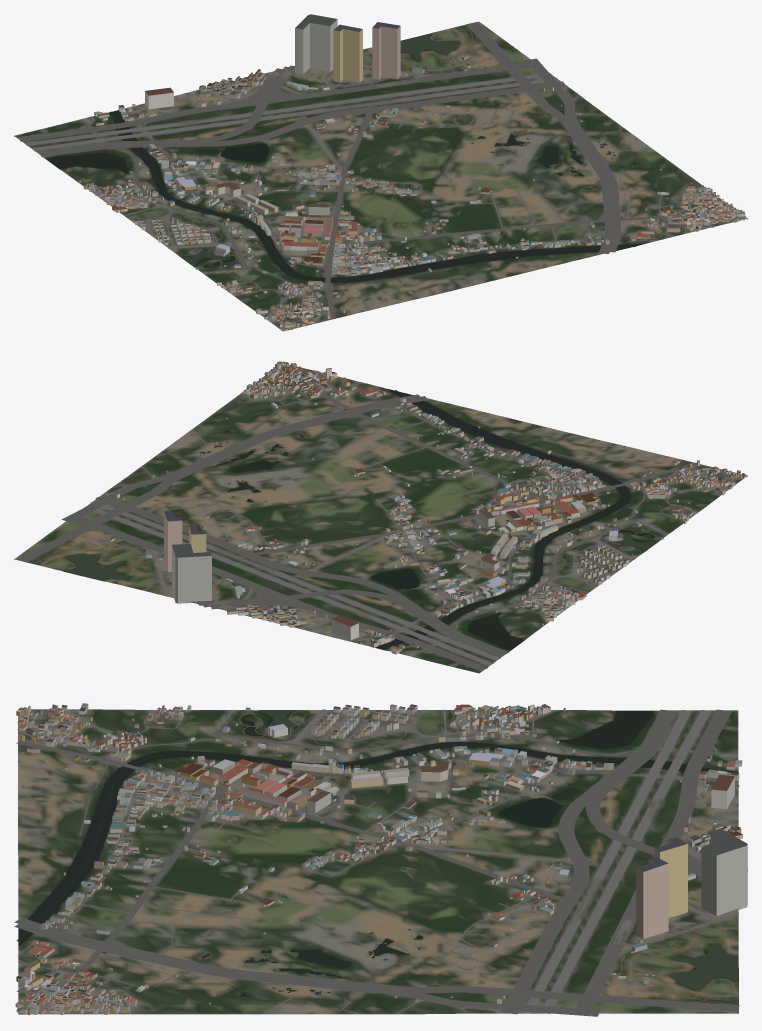
3 renders of one model, top to bottom at view 1: azimuth 30°, elevation 25°; view 2: azimuth 150°, elevation 25°; view 3: azimuth 270°, elevation 25°, orthographic. The views are drawn at different scales.
Parts seen in each view (by area): view 1: ground, buildings, roads, water; view 2: ground, buildings, roads, water; view 3: ground, buildings, roads, water.
Boxes of the visible parts, <box> form: ground: <box>14,21,747,331</box>; buildings: <box>79,14,745,330</box>; roads: <box>17,22,736,328</box>; water: <box>46,33,652,282</box>; ground: <box>14,365,747,673</box>; buildings: <box>93,361,746,654</box>; roads: <box>17,368,739,671</box>; water: <box>64,383,657,650</box>; ground: <box>18,709,738,1014</box>; buildings: <box>15,703,747,1015</box>; roads: <box>14,709,739,1016</box>; water: <box>17,710,738,996</box>.
Size of the model in its own units: 1424 by 149 by 1428.
